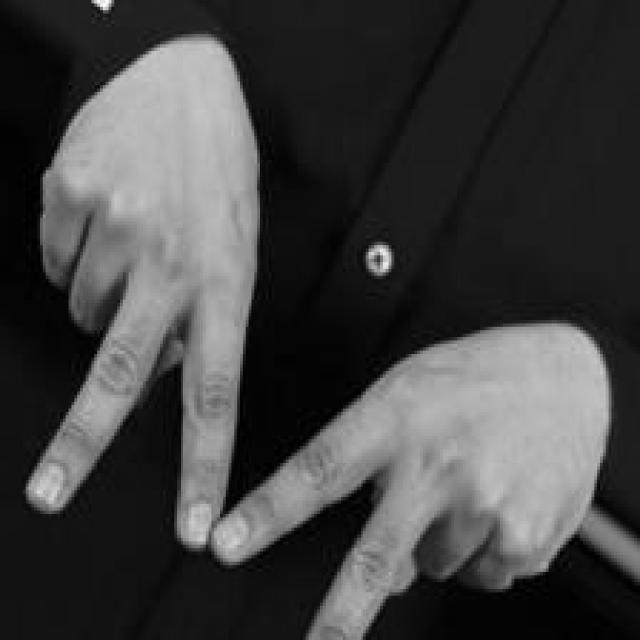M: (27, 36, 608, 640)
